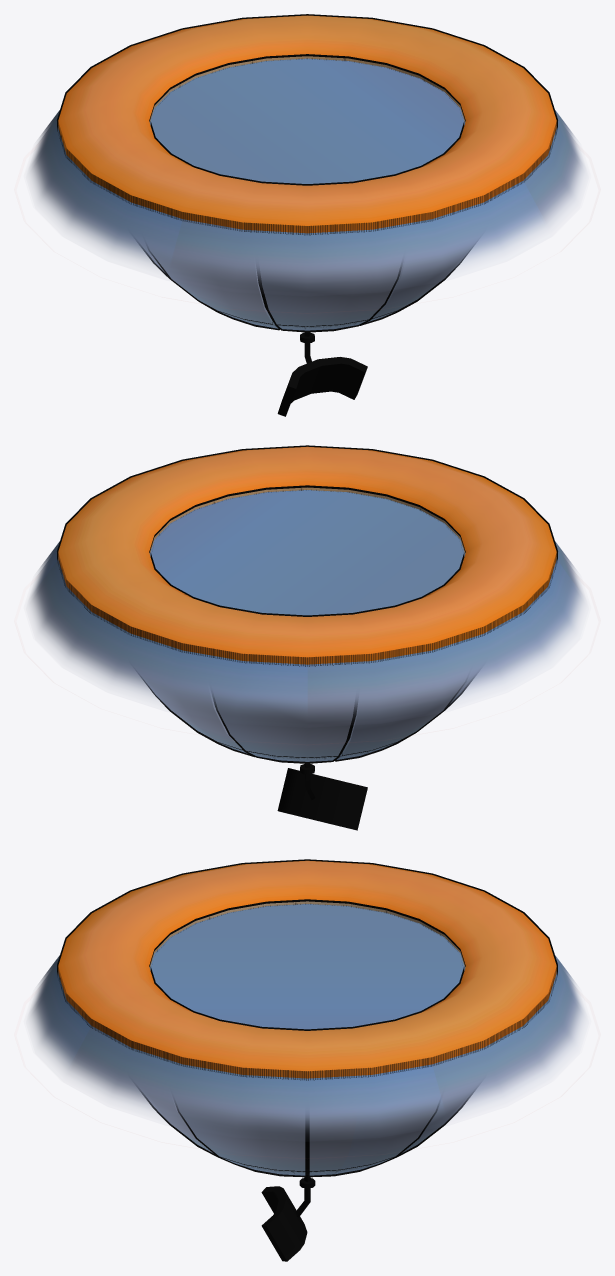
Rendered from SciFi_Capsule.glb.
The picture shows the model from 3 angles, top to bottom: view 1: azimuth 30°, elevation 25°; view 2: azimuth 150°, elevation 25°; view 3: azimuth 270°, elevation 25°; orthographic projection.
Visible parts, largest first — view 1: SciFi_Capsule; view 2: SciFi_Capsule; view 3: SciFi_Capsule.
Boxes of the visible parts, x1=… form: SciFi_Capsule: x1=29, y1=14, x2=585, y2=416; SciFi_Capsule: x1=29, y1=445, x2=585, y2=830; SciFi_Capsule: x1=29, y1=859, x2=585, y2=1261.
Size of the model in its own units: 3.72 by 2.04 by 3.72.
Materials: 3 (2 with a texture image).
